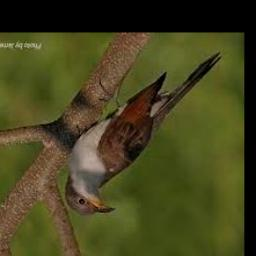Cuckoo: (65, 53, 224, 215)
